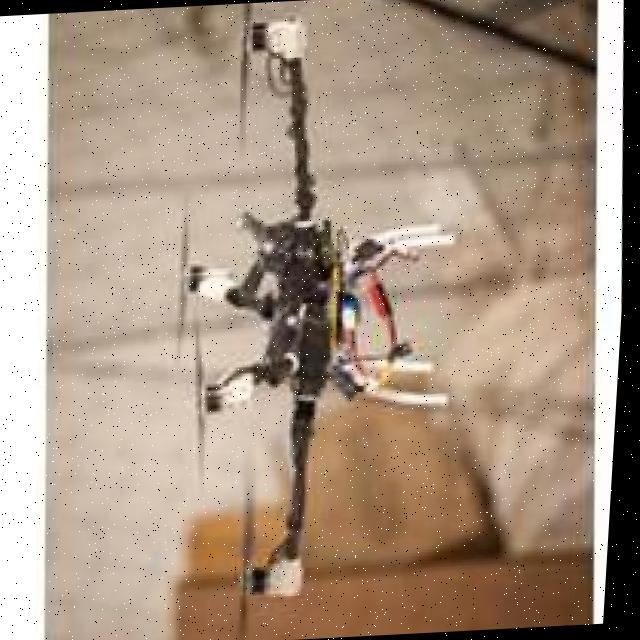drones: (156, 0, 497, 631)
